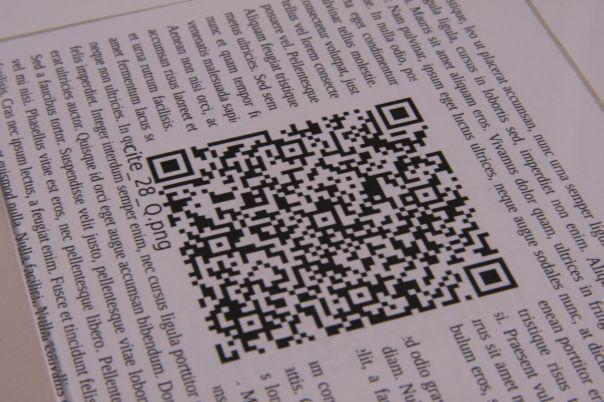Finder pattern: (460, 251, 522, 294), (374, 95, 426, 132), (143, 147, 196, 183)
